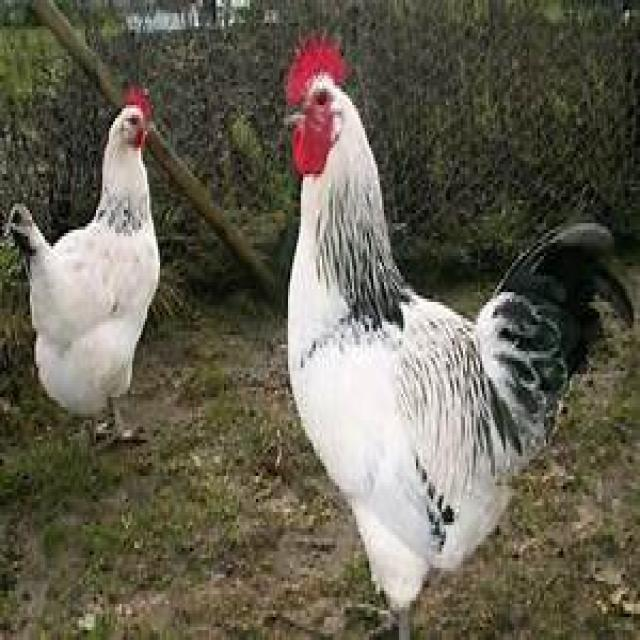hen: (284, 39, 631, 640), (2, 89, 162, 420)
